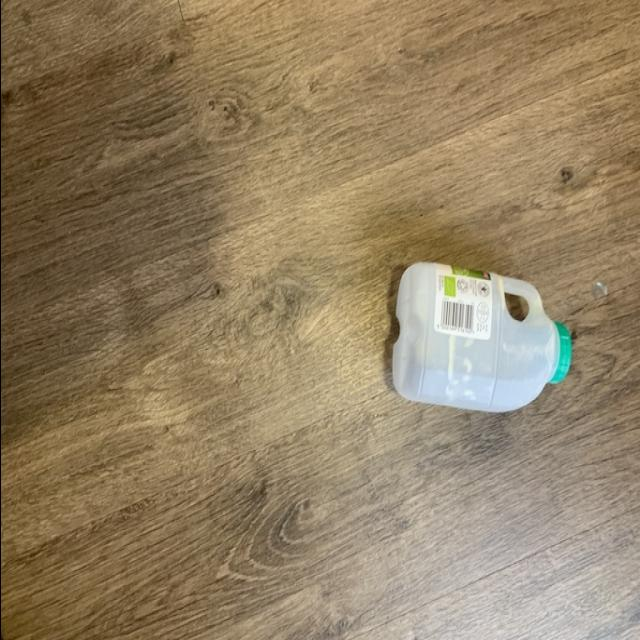HDPEM: (393, 253, 574, 417)
